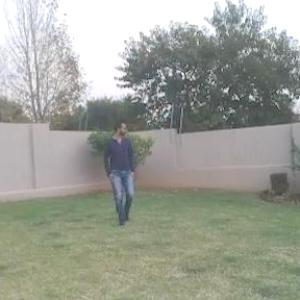follow: (105, 119, 137, 226)
